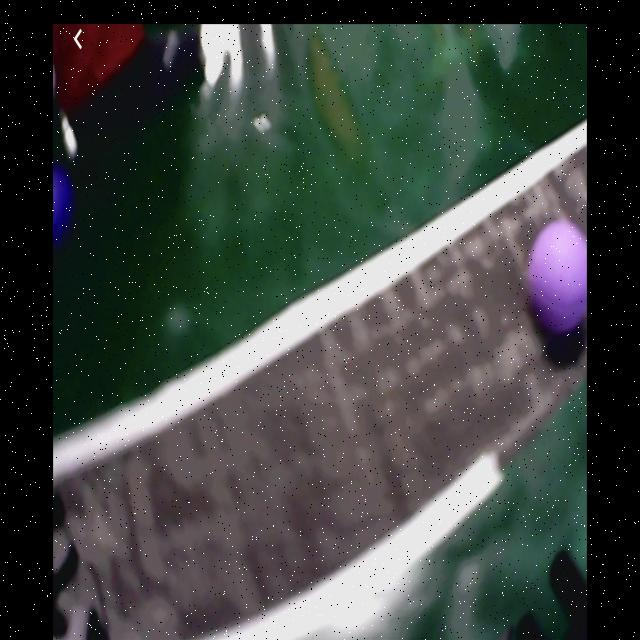ball: (526, 224, 588, 334), (53, 157, 73, 247)
